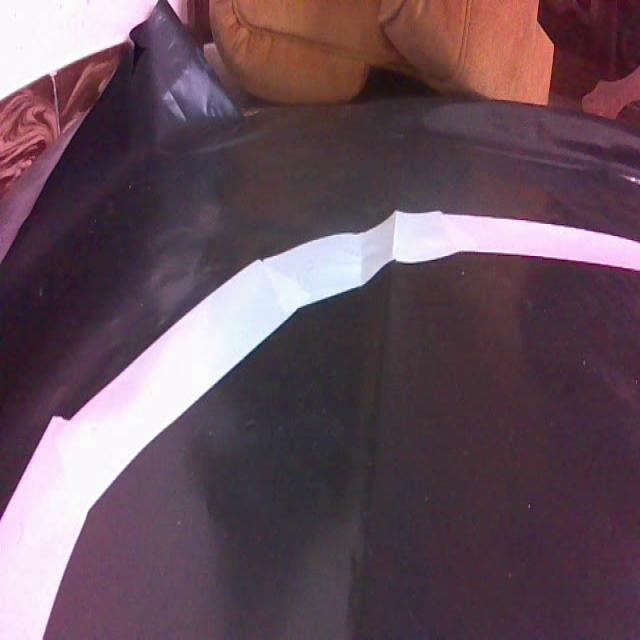LineaCarril: (0, 212, 640, 638)
